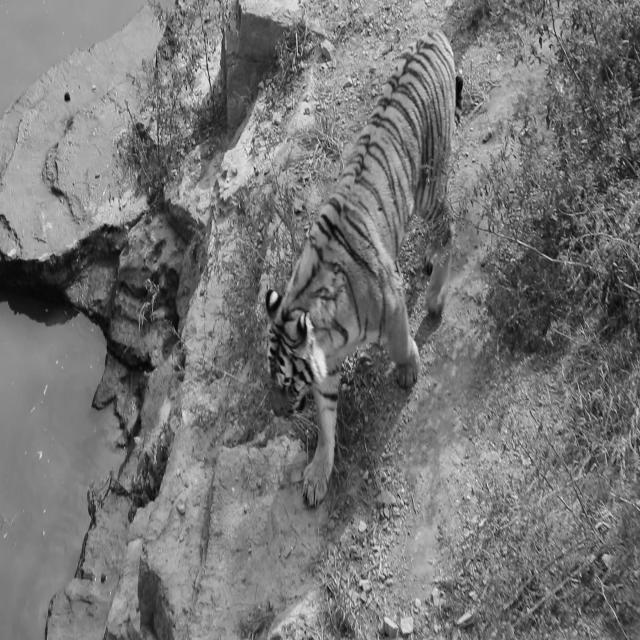Tiger: (264, 26, 463, 508)
